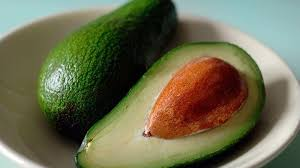aguacate: (31, 3, 171, 122)
